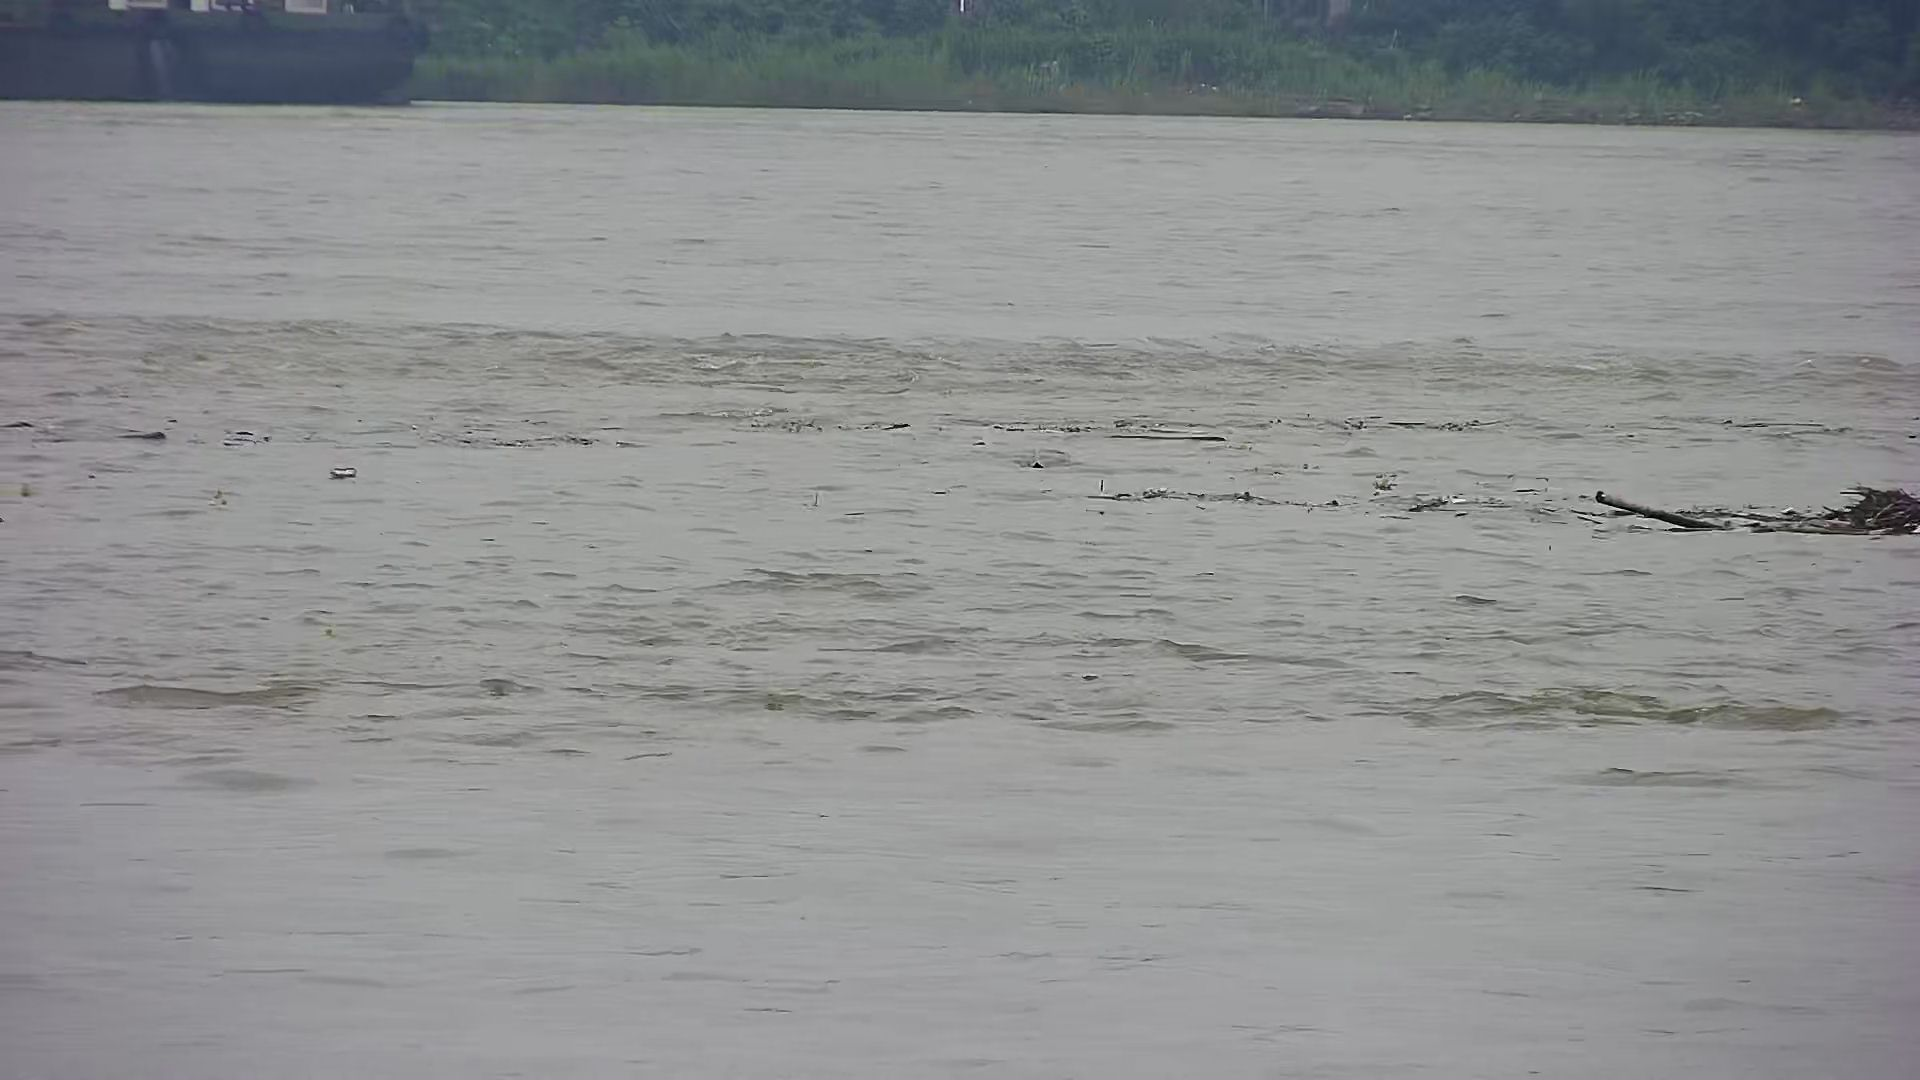grass: (1582, 463, 1920, 547)
